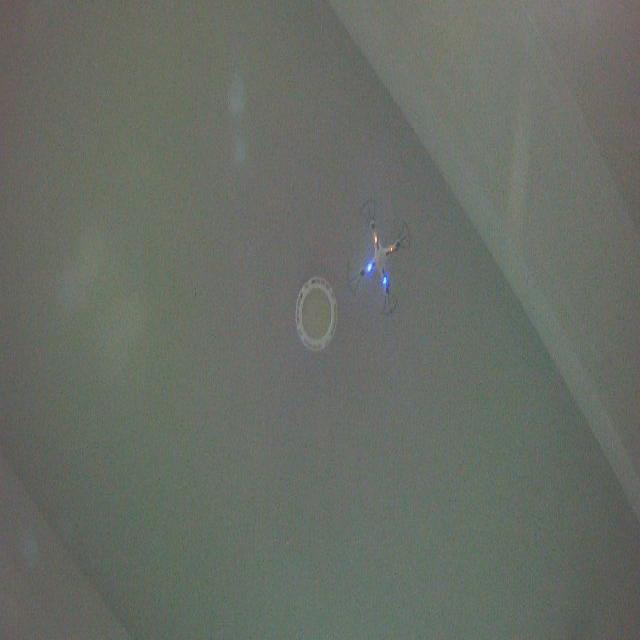drone: (345, 192, 413, 318)
